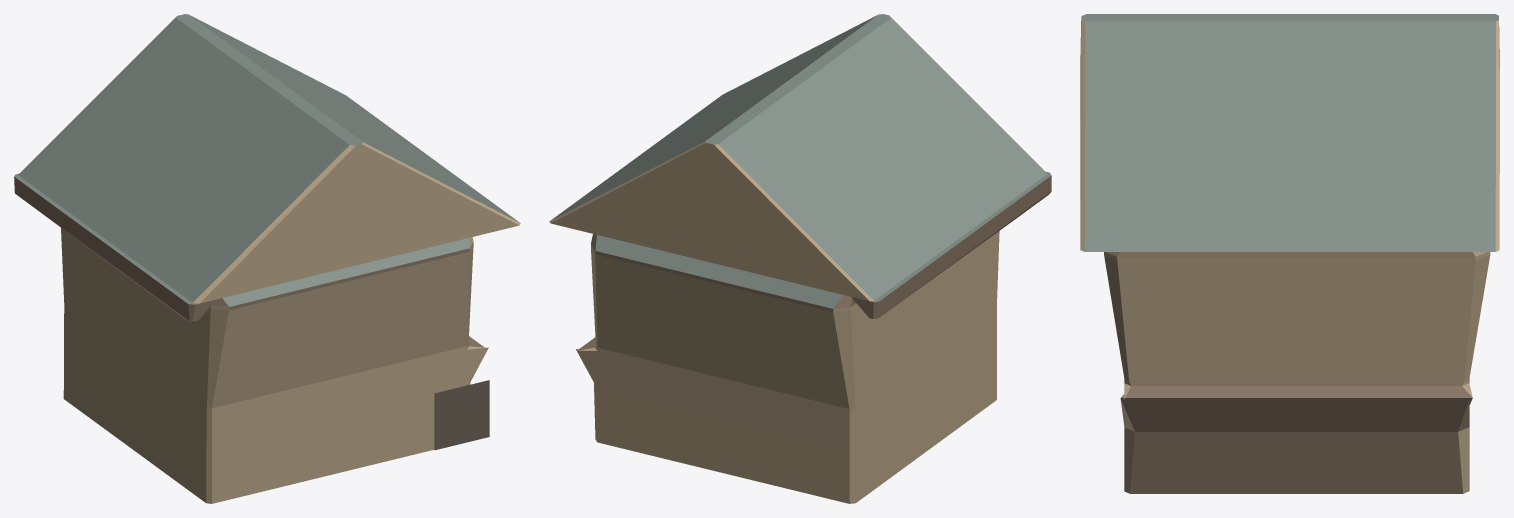
Rendered from loin.glb.
3 renders of one model, left to right at view 1: azimuth 30°, elevation 25°; view 2: azimuth 150°, elevation 25°; view 3: azimuth 270°, elevation 25°, orthographic. The views are drawn at different scales.
Parts seen in each view (by area): view 1: loin; view 2: loin; view 3: loin.
Boxes of the visible parts, x1,y1,x2,y2 form: loin: (14,14,520,503); loin: (549,14,1051,503); loin: (1080,14,1499,493).
Size of the model in its own units: 0.8726 by 0.8561 by 0.8118.
